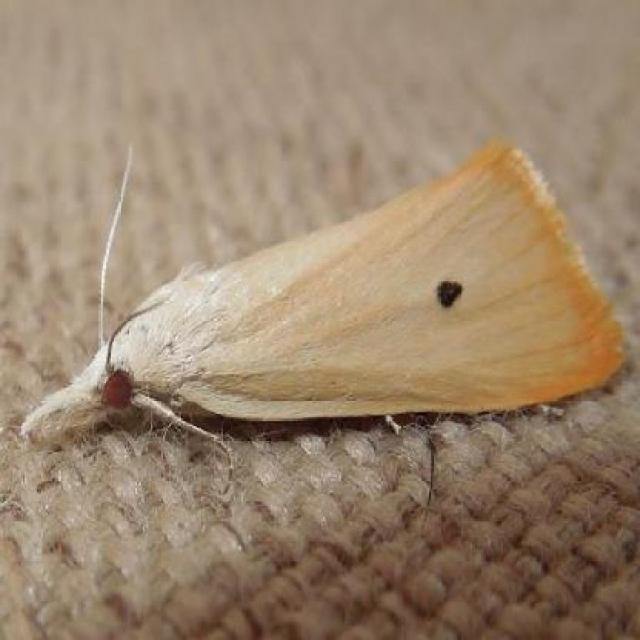stem-borer: (11, 132, 629, 472)
